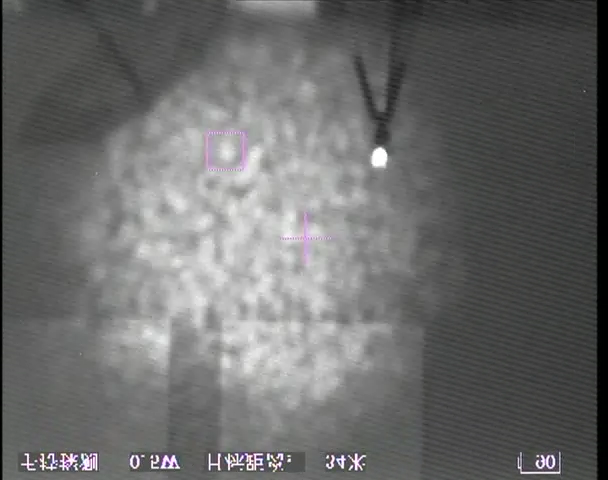my: (368, 147, 391, 169)
